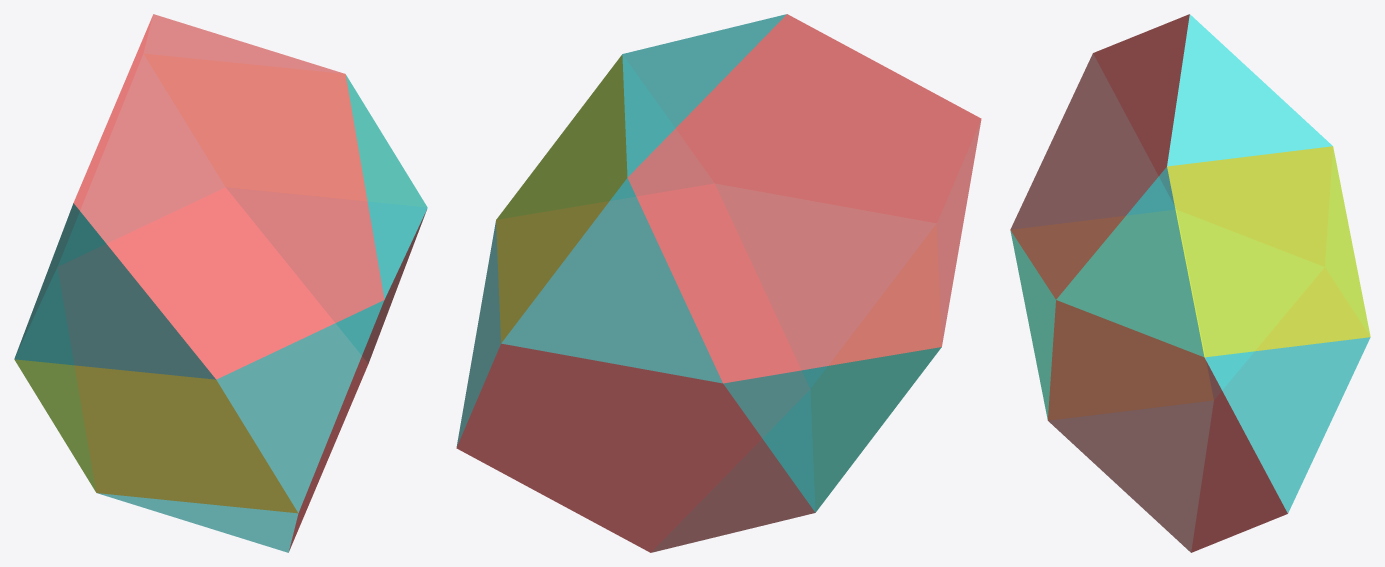
Rendered from j91_bilunabirotunda.obj.
The picture shows the model from 3 angles, left to right: view 1: azimuth 30°, elevation 25°; view 2: azimuth 150°, elevation 25°; view 3: azimuth 270°, elevation 25°; orthographic projection. The views are drawn at different scales.
Size of the model in its own units: 1.86 by 2.37 by 1.6.
